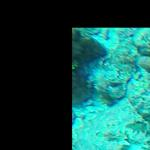dead: (72, 27, 148, 148)
